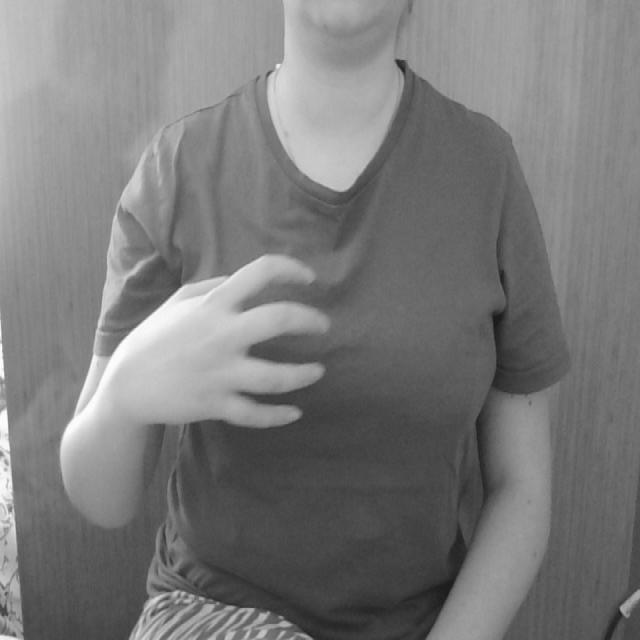Anne: (110, 248, 358, 449)
